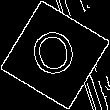O_S: (28, 25, 82, 85)
